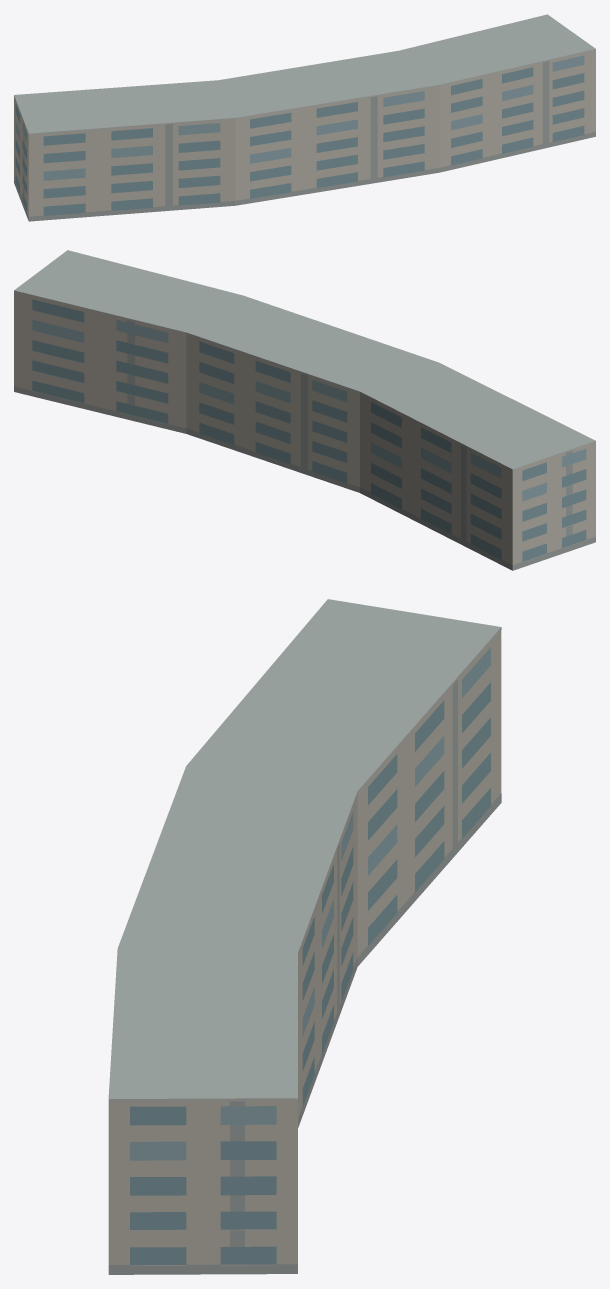
The model's file is residential-9f3a096b-08af-4615-804b-e9cd4b20ac7a.glb.
3 views of the same model, one above another, from view 1: azimuth 30°, elevation 25°; view 2: azimuth 150°, elevation 25°; view 3: azimuth 270°, elevation 25° (orthographic). The views are drawn at different scales.
Visible parts, largest first — view 1: residential-9f3a096b-08af-4615-804b-e9cd4b20ac7a.tmp; view 2: residential-9f3a096b-08af-4615-804b-e9cd4b20ac7a.tmp; view 3: residential-9f3a096b-08af-4615-804b-e9cd4b20ac7a.tmp.
Boxes of the visible parts, bbox=[...] form: residential-9f3a096b-08af-4615-804b-e9cd4b20ac7a.tmp: bbox=[14, 14, 595, 221]; residential-9f3a096b-08af-4615-804b-e9cd4b20ac7a.tmp: bbox=[14, 250, 595, 570]; residential-9f3a096b-08af-4615-804b-e9cd4b20ac7a.tmp: bbox=[108, 599, 501, 1274].
Size of the model in its own units: 93.04 by 15.25 by 30.9.
